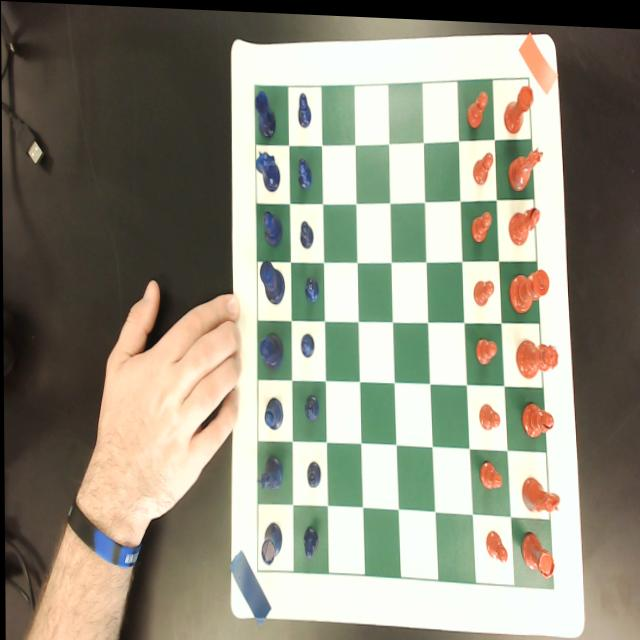B: (262, 207, 282, 245), (262, 393, 282, 427)
K: (258, 257, 284, 302)
N: (254, 146, 280, 191), (255, 452, 281, 489)
P: (296, 88, 311, 124), (298, 214, 313, 246), (302, 522, 317, 554), (297, 152, 311, 186), (299, 326, 313, 357), (306, 456, 320, 485), (304, 272, 318, 299), (304, 391, 318, 418)
Q: (258, 327, 283, 368)
R: (252, 85, 276, 134), (258, 515, 281, 563)
b: (507, 199, 539, 242), (520, 395, 552, 436)
k: (508, 261, 548, 310)
n: (507, 140, 542, 187), (520, 468, 559, 509)
p: (465, 85, 488, 125), (471, 145, 492, 182), (470, 204, 492, 239), (484, 524, 506, 559), (479, 454, 501, 485), (474, 333, 496, 362), (477, 397, 499, 426), (472, 273, 493, 302)
q: (514, 333, 558, 375)
r: (519, 525, 554, 574), (502, 78, 533, 129)
